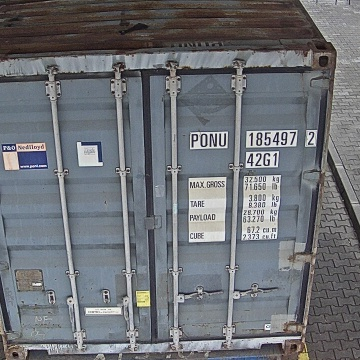serial_id: (190, 131, 315, 147)
